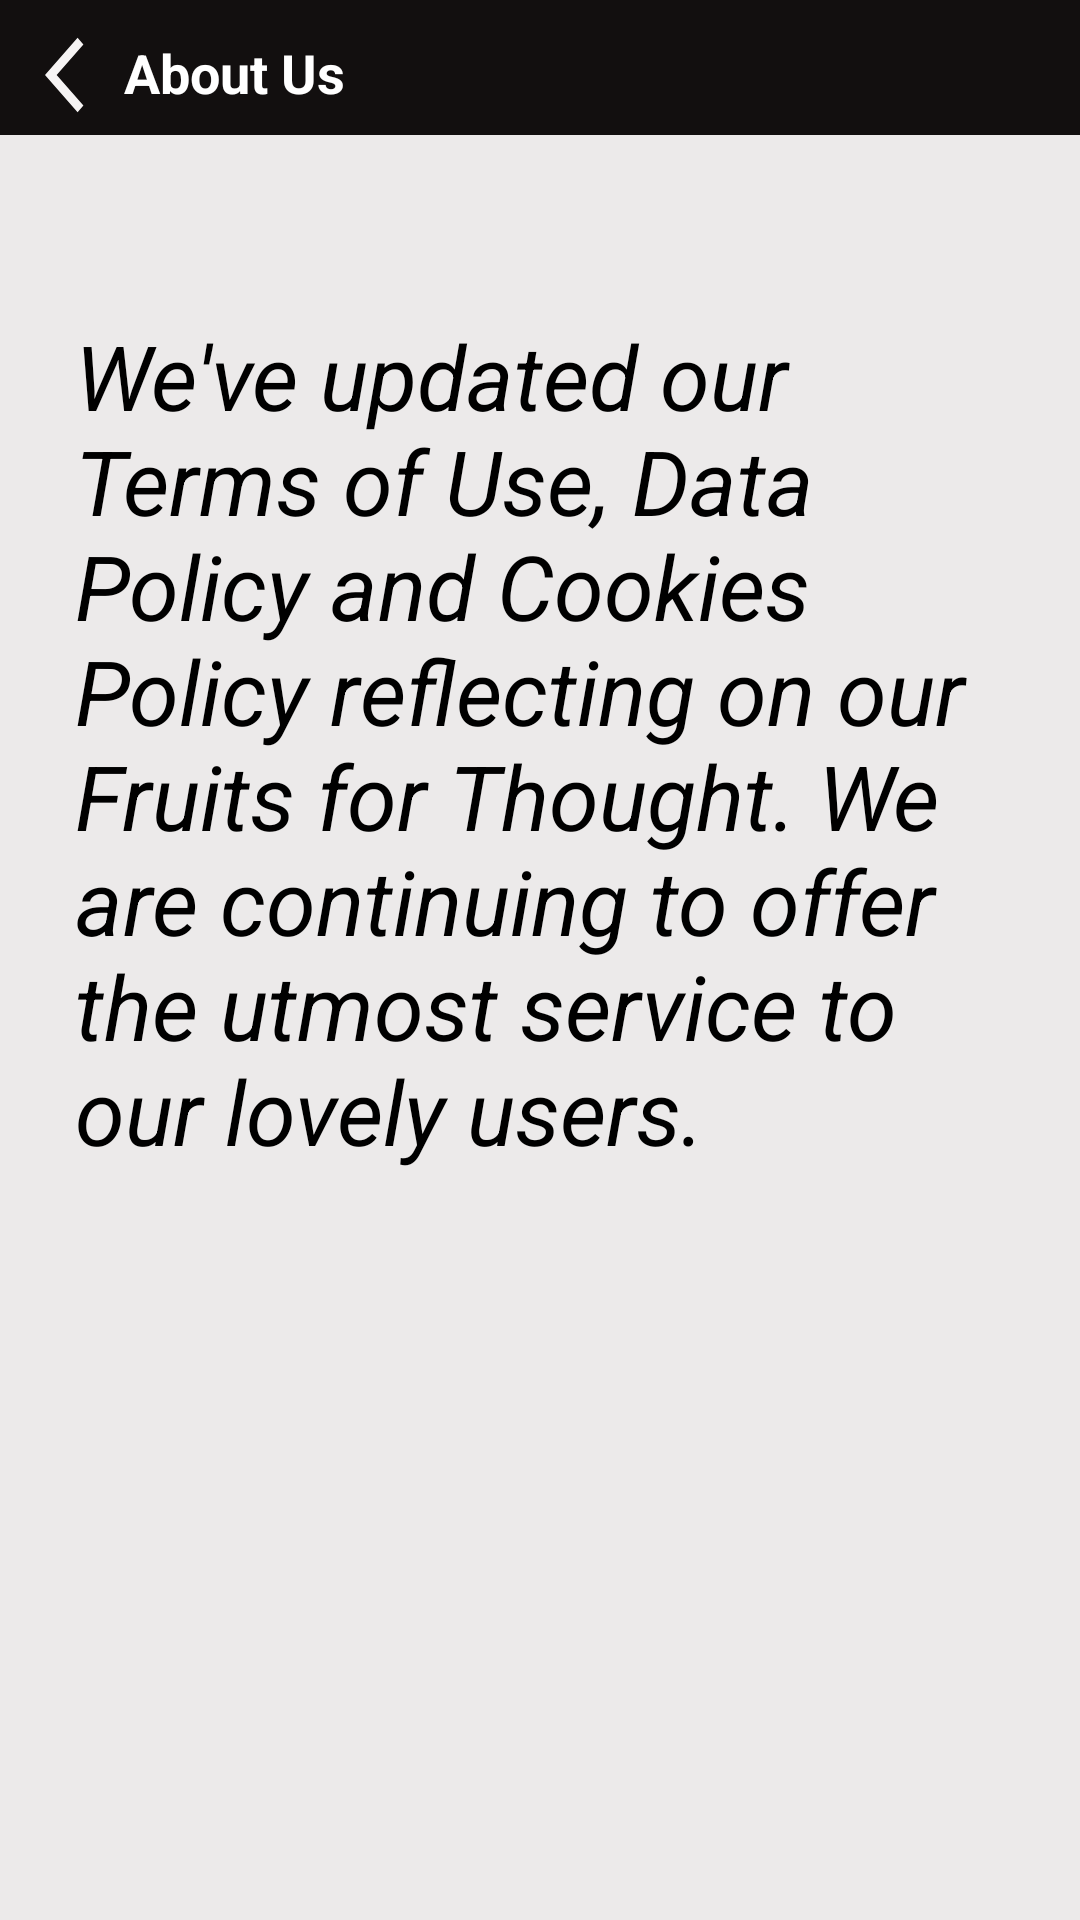

Icon click points for this 1080 × 1920 phone screenshot, format (x,y):
arrow back: (64,75)
